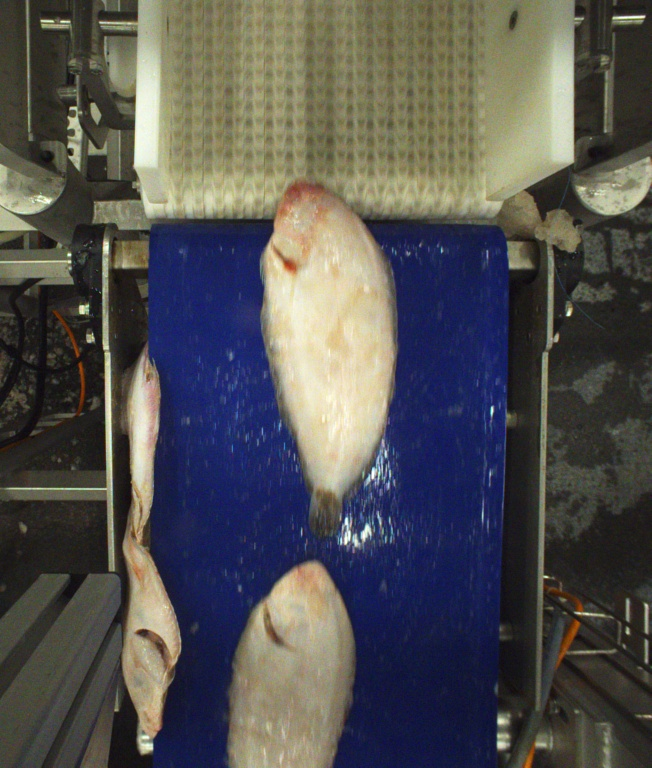SOL: (257, 178, 397, 543)
